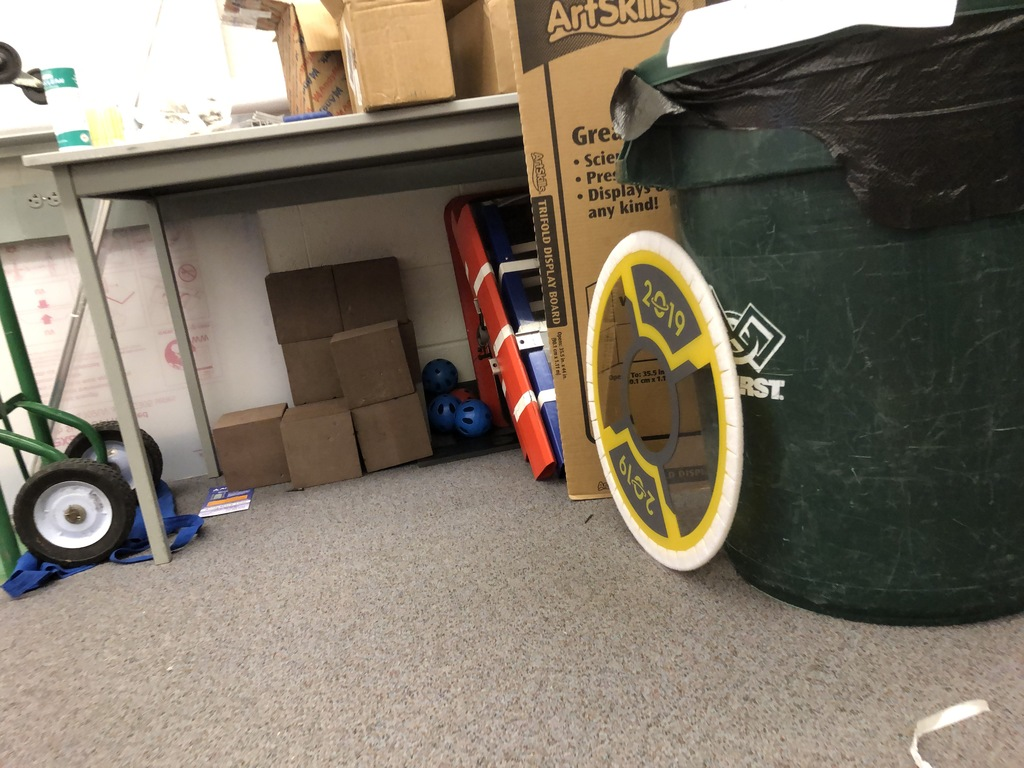hatch_panel: (573, 213, 756, 595)
